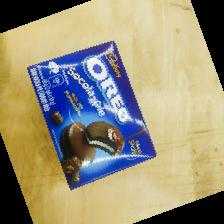Oreo: (26, 42, 158, 190)
